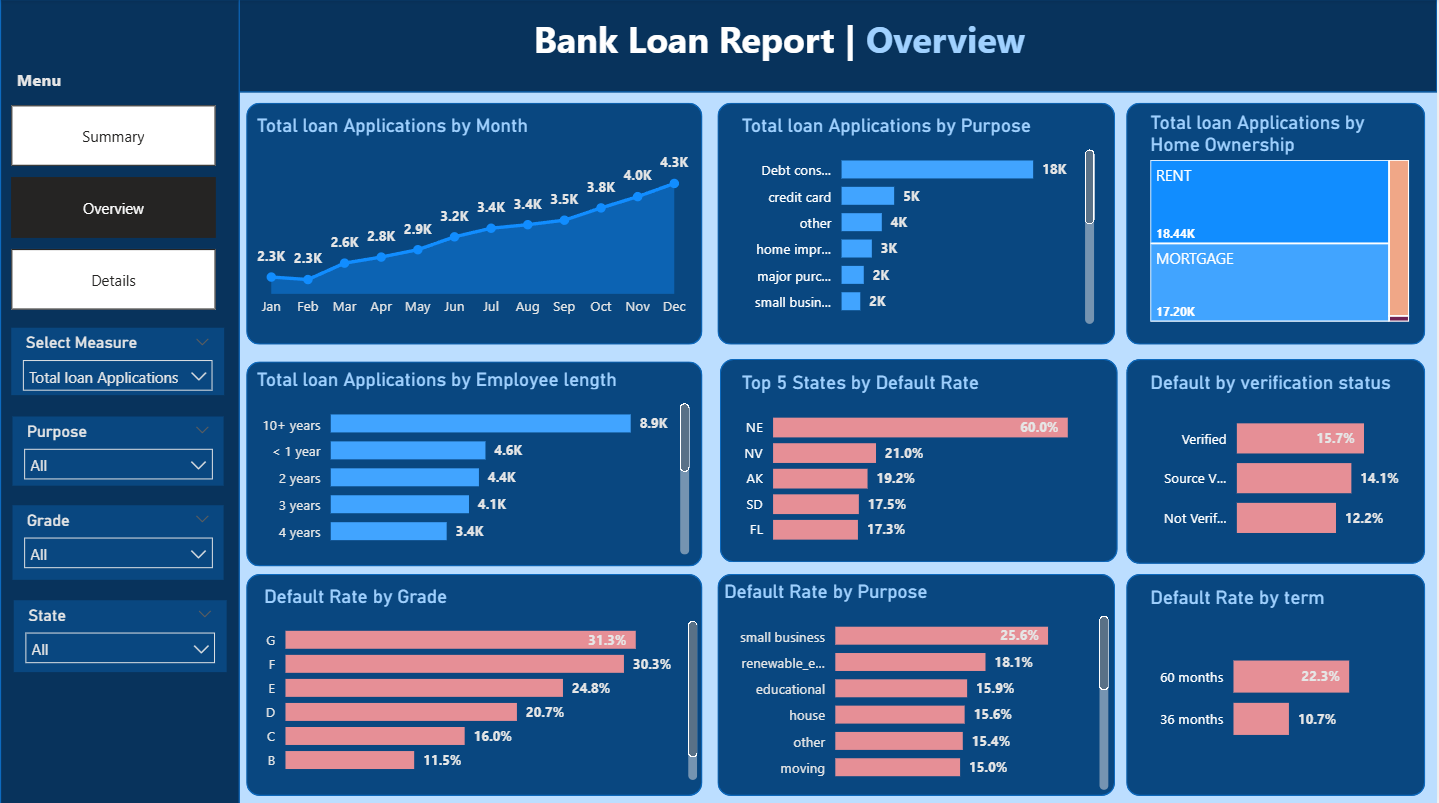

Layout of this report page (visuals, bound fields, positions):
{"tool":"powerbi","page":{"name":"Overview","canvas":[1280,720],"ordinal":1},"visuals":[{"type":"shape","box":[0,0,1280,83.2],"z":0},{"type":"shape","box":[1003.1,91.9,266.2,215.4],"z":1000},{"type":"shape","box":[1003.1,321.1,266.2,182.5],"z":2000},{"type":"shape","box":[640.8,321.1,354,181.1],"z":3000},{"type":"shape","box":[219.6,91.9,406.2,215.4],"z":4000},{"type":"shape","box":[219.6,322.5,406.2,182.5],"z":5000},{"type":"areaChart","fields":{"Y":["bankloandb loan_data.Total loan Applications"],"Category":["Date table.Month"]},"box":[223.7,102.9,395,189.4],"z":6000},{"type":"shape","box":[0,0,213.5,720.2],"z":7000},{"type":"slicer","fields":{"Values":["bankloandb loan_data.purpose"]},"box":[10.9,371.6,188.2,61.5],"z":8000},{"type":"slicer","fields":{"Values":["bankloandb loan_data.grade"]},"box":[10.9,451.2,188.2,66.4],"z":9000},{"type":"slicer","fields":{"Values":["bankloandb loan_data.address_state"]},"box":[12.1,535.7,189.4,63.9],"z":10000},{"type":"slicer","fields":{"Values":["Select Measure.Select Measure"]},"box":[9.7,293.2,189.4,60.3],"z":11000},{"type":"shape","box":[639.5,91.9,354,215.4],"z":12000},{"type":"barChart","fields":{"Y":["bankloandb loan_data.Total loan Applications"],"Category":["bankloandb loan_data.Purpose"]},"box":[655.9,102.9,323.8,192.1],"z":13000},{"type":"barChart","fields":{"Y":["bankloandb loan_data.Total loan Applications"],"Category":["bankloandb loan_data.Employee length"]},"box":[223.7,328,395.2,171.5],"z":14000},{"type":"treemap","fields":{"Values":["bankloandb loan_data.Total loan Applications"],"Group":["bankloandb loan_data.Home Ownership"]},"box":[1019.6,100.2,240.1,192.1],"z":15000},{"type":"shape","box":[1003.1,511.8,266.2,197.6],"z":16000},{"type":"shape","box":[639.5,511.8,354,197.6],"z":17000},{"type":"shape","box":[219.6,511.8,406.2,197.6],"z":18000},{"type":"textbox","box":[440.4,8.4,506.7,89.3],"z":19000},{"type":"pageNavigator","box":[9.7,94.1,182.2,182.2],"z":20000},{"type":"textbox","box":[9.7,56.7,65.1,30.2],"z":21000},{"type":"barChart","title":"Default Rate by Grade","fields":{"Category":["bankloandb loan_data.Grade"],"Y":["bankloandb loan_data.Bad Loan %"]},"box":[230.4,522.4,395.7,178.6],"z":22000},{"type":"barChart","title":"Default Rate by term","fields":{"Category":["bankloandb loan_data.term"],"Y":["bankloandb loan_data.Bad Loan %"]},"box":[1019.6,522.8,227.8,172.9],"z":23000},{"type":"barChart","title":"Default Rate by Purpose","fields":{"Category":["bankloandb loan_data.Purpose"],"Y":["bankloandb loan_data.Bad Loan %"]},"box":[640.6,517.6,352.3,191.8],"z":24000},{"type":"barChart","title":"Top 5 States by Default Rate","fields":{"Category":["bankloandb loan_data.State"],"Y":["bankloandb loan_data.Bad Loan %"]},"box":[655.9,332.1,337.6,164.7],"z":25000},{"type":"barChart","title":"Default  by verification status","fields":{"Category":["bankloandb loan_data.verification_status"],"Y":["bankloandb loan_data.Bad Loan %"]},"box":[1019.6,332.1,240.1,164.7],"z":26000}]}

Visuals, with their boxes in screenshot pixels (x1, y1, x2, y2), scaled from the page's 1280x720 canvas onto the 1439x803 screenshot:
shape: (0,0,1438,93)
shape: (1128,102,1427,343)
shape: (1128,358,1427,562)
shape: (720,358,1118,560)
shape: (247,102,704,343)
shape: (247,360,704,563)
areaChart - bankloandb loan_data.Total loan Applications x Date table.Month: (251,115,696,326)
shape: (0,0,240,802)
slicer - bankloandb loan_data.purpose: (12,414,224,483)
slicer - bankloandb loan_data.grade: (12,503,224,577)
slicer - bankloandb loan_data.address_state: (14,597,227,669)
slicer - Select Measure.Select Measure: (11,327,224,394)
shape: (719,102,1117,343)
barChart - bankloandb loan_data.Total loan Applications x bankloandb loan_data.Purpose: (737,115,1101,329)
barChart - bankloandb loan_data.Total loan Applications x bankloandb loan_data.Employee length: (251,366,696,557)
treemap - bankloandb loan_data.Total loan Applications x bankloandb loan_data.Home Ownership: (1146,112,1416,326)
shape: (1128,571,1427,791)
shape: (719,571,1117,791)
shape: (247,571,704,791)
textbox: (495,9,1065,109)
pageNavigator: (11,105,216,308)
textbox: (11,63,84,97)
"Default Rate by Grade" barChart: (259,583,704,782)
"Default Rate by term" barChart: (1146,583,1402,776)
"Default Rate by Purpose" barChart: (720,577,1116,791)
"Top 5 States by Default Rate" barChart: (737,370,1117,554)
"Default  by verification status" barChart: (1146,370,1416,554)
